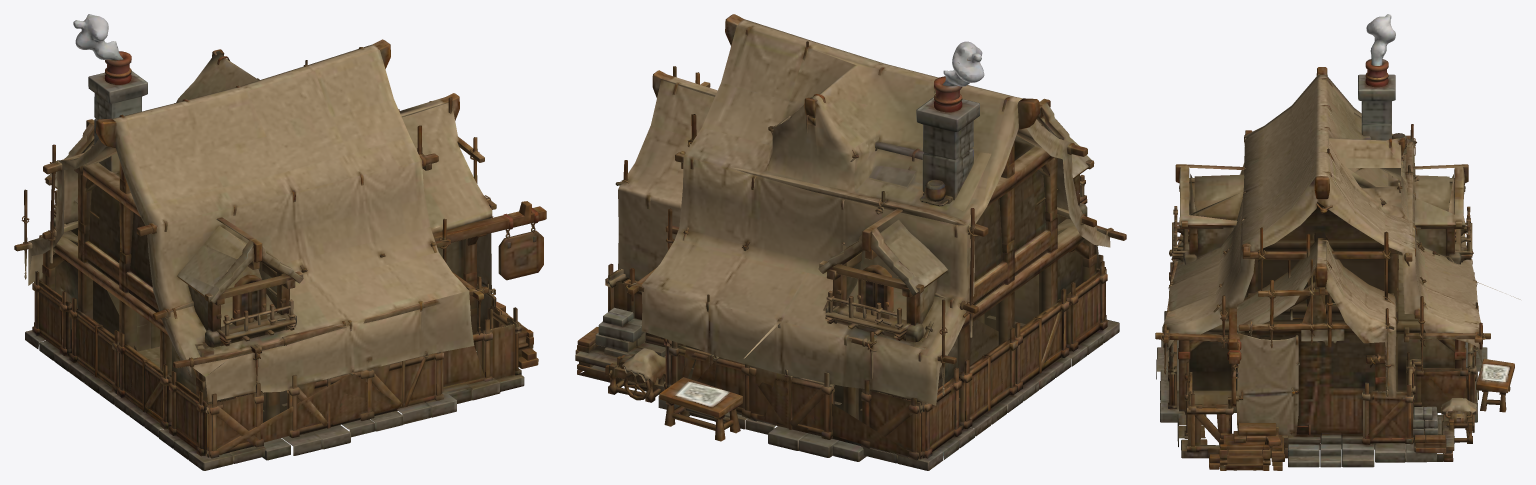
The model's file is jt_tarp_shack_b.glb.
The picture shows the model from 3 angles, left to right: view 1: azimuth 30°, elevation 25°; view 2: azimuth 150°, elevation 25°; view 3: azimuth 270°, elevation 25°; orthographic projection. The views are drawn at different scales.
Parts seen in each view (by area): view 1: tripo_node_baee1962; view 2: tripo_node_baee1962; view 3: tripo_node_baee1962.
Boxes of the visible parts, bbox=[...] form: tripo_node_baee1962: bbox=[14, 14, 546, 470]; tripo_node_baee1962: bbox=[575, 14, 1126, 470]; tripo_node_baee1962: bbox=[1155, 14, 1520, 470].
Size of the model in its own units: 0.9839 by 0.8569 by 0.9136.
Materials: 1 (1 with a texture image).
